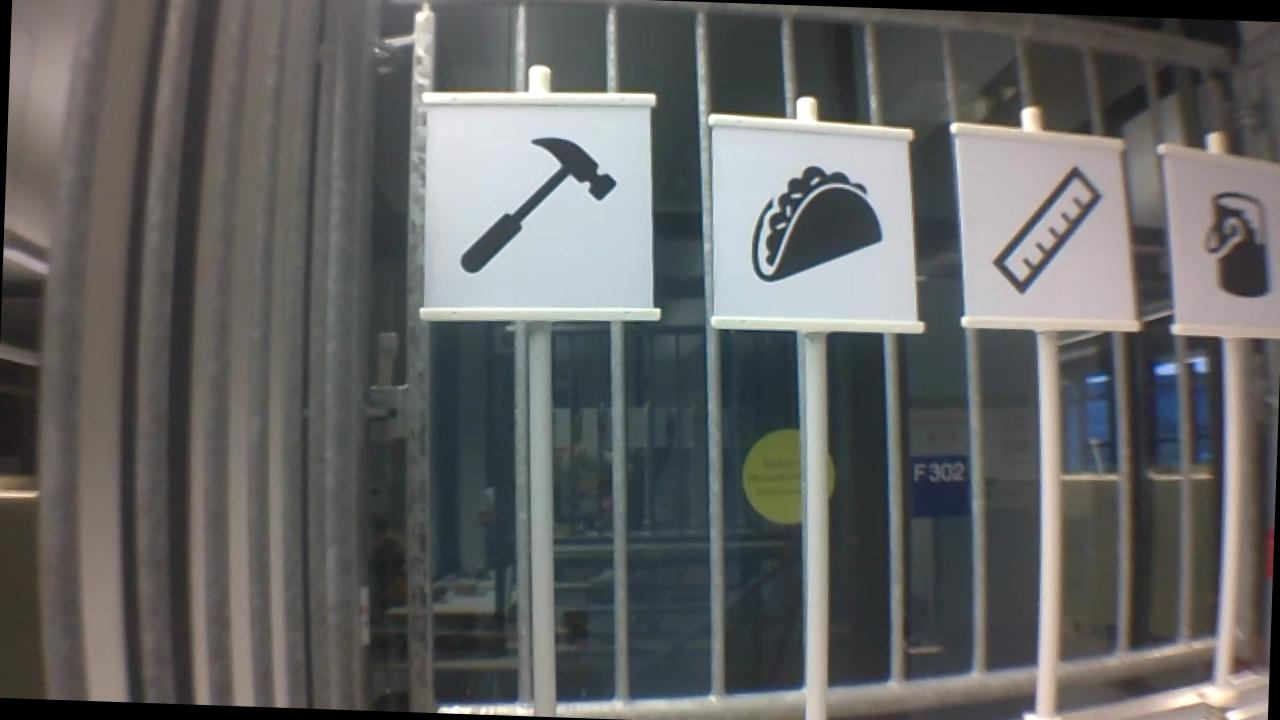bucket: (1192, 185, 1276, 303)
hammer: (450, 126, 624, 284)
ruler: (982, 155, 1107, 302)
taco: (743, 159, 891, 291)
